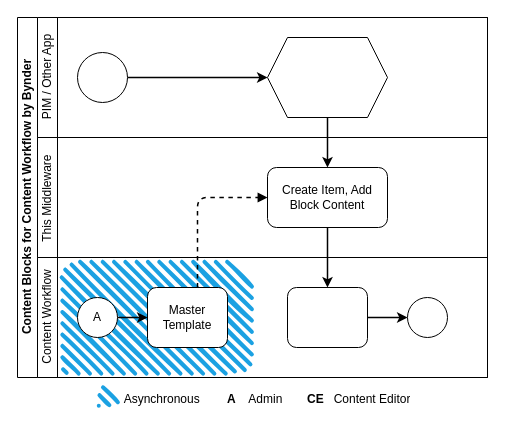
Image size: 505x432. Some labels were removed from this diagram. The shapes that lost their labels are listed below. From the top down, each one's centre as x and y in pixels, then its label:
At (x=102, y=77): "Trigger".
At (x=327, y=77): "New Item Created (eg. Product)".
At (x=327, y=317): "+ New Content Item".
At (x=427, y=317): "CE".
